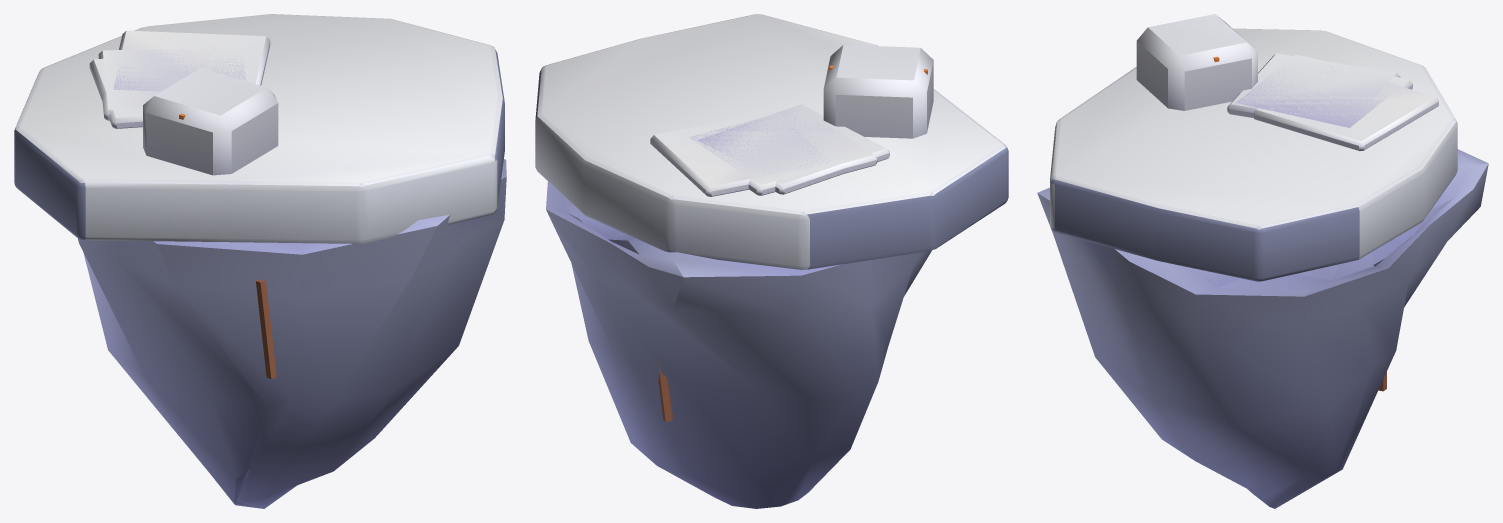
Rendered from hub_ruin_slab_floating.glb.
The picture shows the model from 3 angles, left to right: view 1: azimuth 30°, elevation 25°; view 2: azimuth 150°, elevation 25°; view 3: azimuth 270°, elevation 25°; orthographic projection. The views are drawn at different scales.
Parts seen in each view (by area): view 1: hub_ruin_slab_floating; view 2: hub_ruin_slab_floating; view 3: hub_ruin_slab_floating.
Part boxes in pixels (x1,y1,x2,y2): hub_ruin_slab_floating: (14,14,506,508); hub_ruin_slab_floating: (535,14,1008,508); hub_ruin_slab_floating: (1037,14,1488,508).
Size of the model in its own units: 3.87 by 3.75 by 3.65.
